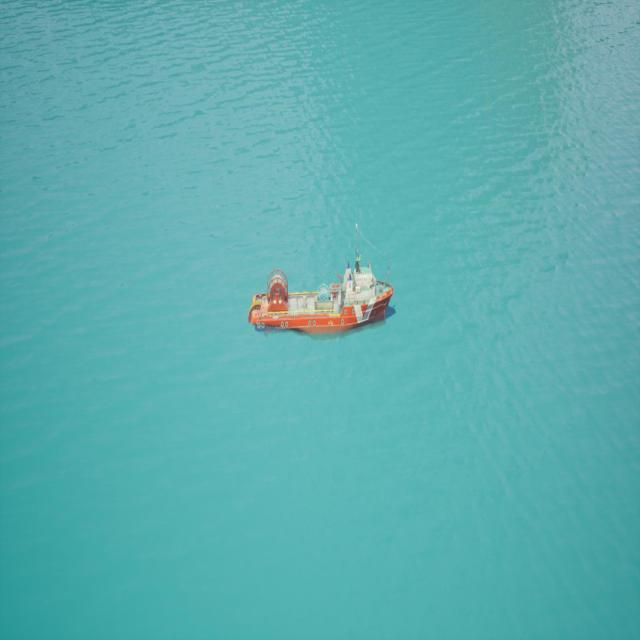tug boat: (250, 222, 410, 380)
